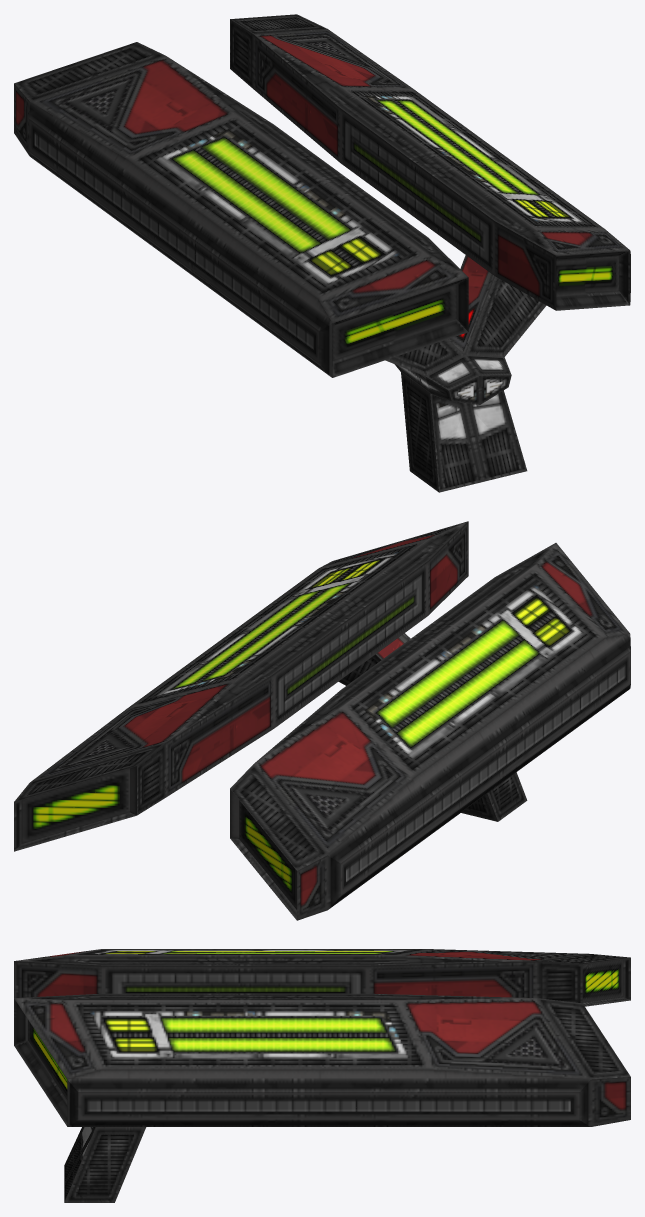
The model's file is BFP_ConstUpDualEngine_Up.FBX.
The picture shows the model from 3 angles, top to bottom: view 1: azimuth 30°, elevation 25°; view 2: azimuth 150°, elevation 25°; view 3: azimuth 270°, elevation 25°; orthographic projection. The views are drawn at different scales.
Visible parts, largest first — view 1: BFP_ConstUpDualEngine_Up; view 2: BFP_ConstUpDualEngine_Up; view 3: BFP_ConstUpDualEngine_Up.
Boxes of the visible parts, bbox=[...] form: BFP_ConstUpDualEngine_Up: bbox=[14, 14, 630, 492]; BFP_ConstUpDualEngine_Up: bbox=[14, 521, 630, 920]; BFP_ConstUpDualEngine_Up: bbox=[14, 949, 630, 1202].
Bounding box in the file's own units: 296 × 217 × 588.
1 material, 1 textured.
